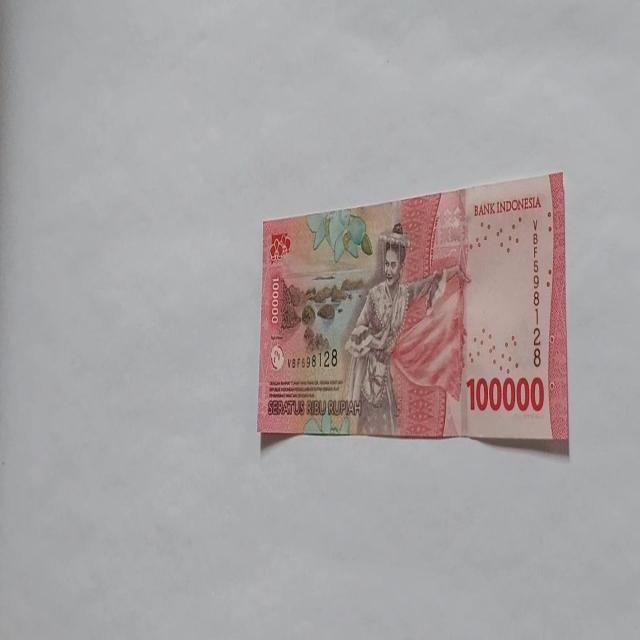Kertas: (256, 170, 568, 450), (466, 374, 544, 414)
